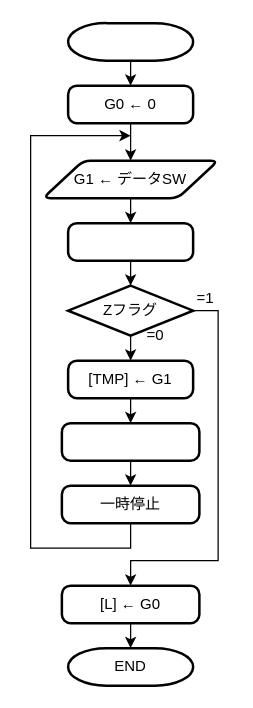
This 253x708 diagram has some shape labels left out. The shapes that lost their labels are listed below. From the top down, each one's centre as x and y in pixels, then its label:
At (130,41): "START".
At (130,241): "G1 - 0".
At (130,441): "G0 ← G0 + [TMP]".
